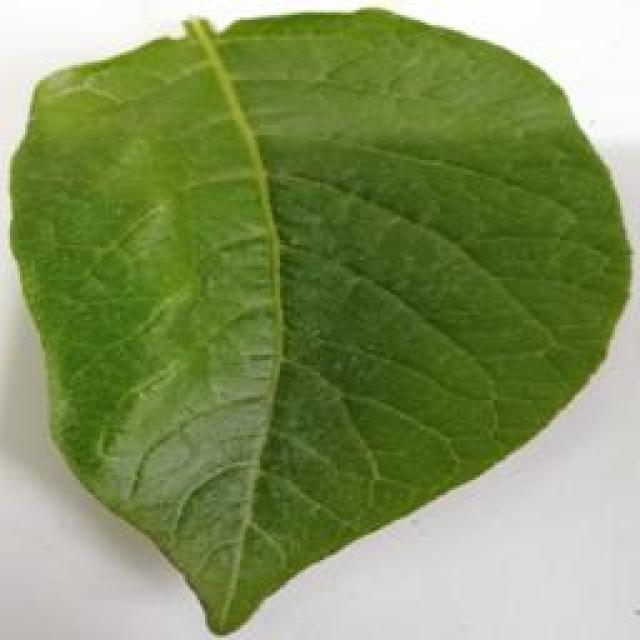Potato_Healthy: (3, 10, 630, 634)
